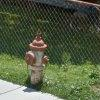Hydrant: (21, 29, 61, 94)
